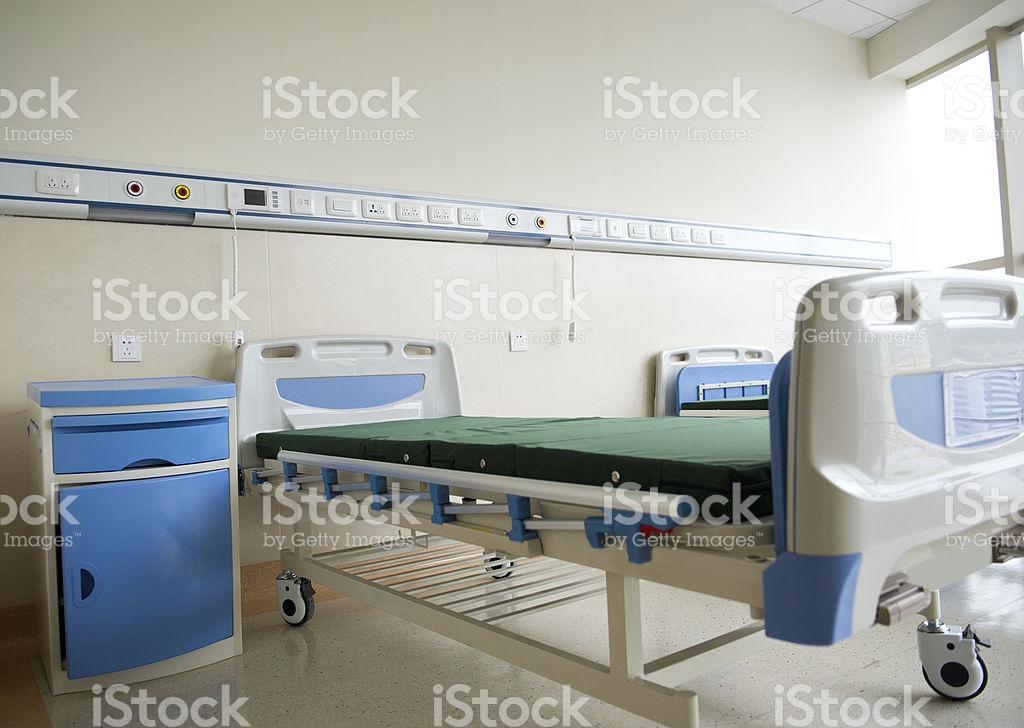hospital bed: (214, 330, 968, 560)
